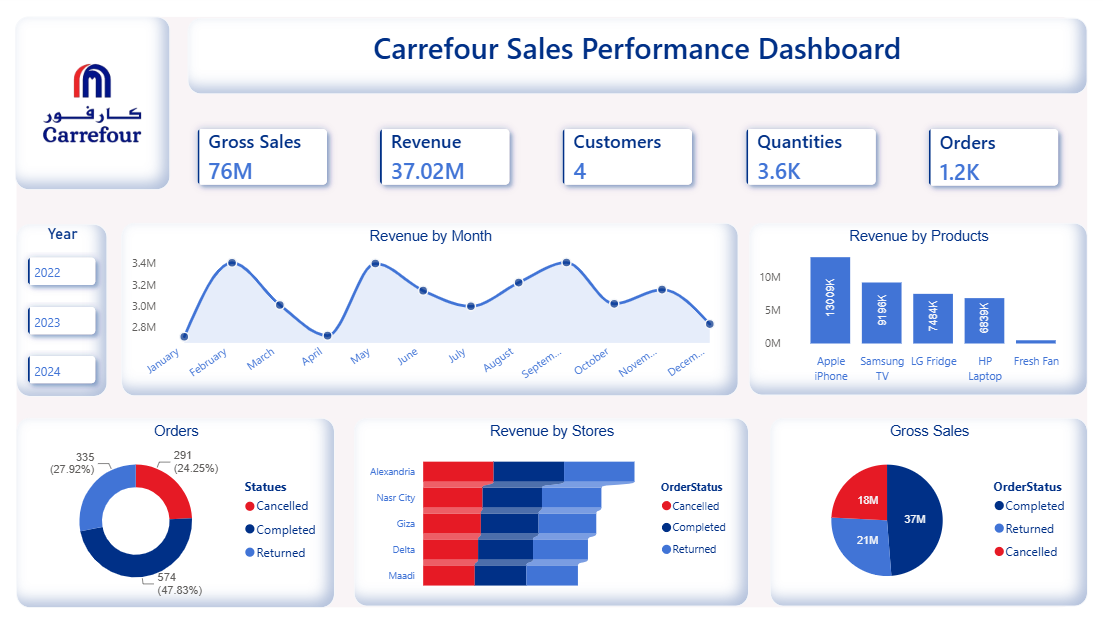

What the dashboard file says about the page in this screenshot:
{"tool":"powerbi","page":{"name":"Page 1","canvas":[1280,720],"ordinal":0},"visuals":[{"type":"shape","box":[61.7,24.7,1176,649.1],"z":500},{"type":"cardVisual","fields":{"Data":["All_Measures.Total_Customers"]},"box":[633,120,200.3,119.4],"z":1000},{"type":"pieChart","title":"Gross Sales","fields":{"Y":["All_Measures.Gross_Sales"],"Category":["SalesData.OrderStatus"]},"box":[889.2,465.2,348.5,207.2],"z":2000},{"type":"donutChart","title":"Orders","fields":{"Y":["All_Measures.Cancelled_Orders","All_Measures.Completed_Orders","All_Measures.Returned_Orders"]},"box":[61.7,465.2,349.9,208.6],"z":3000},{"type":"clusteredColumnChart","title":"Revenue by Products","fields":{"Category":["DimProducts.ProductName"],"Y":["All_Measures.Net_Sales"]},"box":[865.9,251.1,371.9,189.4],"z":4000},{"type":"barChart","title":"Revenue by Stores","fields":{"Series":["SalesData.OrderStatus"],"Category":["DimStores.StoreName"],"Y":["All_Measures.Net_Sales"]},"box":[432.2,465.2,433.6,207.2],"z":5000},{"type":"lineChart","fields":{"Category":["SalesData.Date.Variation.Date Hierarchy.Month"],"Y":["All_Measures.Net_Sales"]},"box":[177,251.1,677.9,190.7],"z":6000},{"type":"advancedSlicerVisual","fields":{"Values":["SalesData.Date.Variation.Date Hierarchy.Year"]},"box":[61.7,252.5,100.2,189.4],"z":7000},{"type":"textbox","box":[249.7,26.1,988,83.7],"z":9000},{"type":"image","box":[61,24.7,170,190],"z":10000},{"type":"cardVisual","fields":{"Data":["All_Measures.Total_Orders"]},"box":[1035,120,200,120.8],"z":11000},{"type":"cardVisual","fields":{"Data":["All_Measures.Total_Quantities"]},"box":[834,120,200.3,119.4],"z":12000},{"type":"cardVisual","fields":{"Data":["All_Measures.Total_Sales"]},"box":[231.9,120,200.3,119.4],"z":13000},{"type":"cardVisual","fields":{"Data":["All_Measures.Net_Sales"]},"box":[432,120,200.3,119.4],"z":14000}]}

Visuals, with their boxes in screenshot pixels (x1, y1, x2, y2), scaled from the page's 1280x720 canvas onto the 1103x623 screenshot:
shape: (53, 21, 1067, 583)
cardVisual - All_Measures.Total_Customers: (545, 104, 718, 207)
"Gross Sales" pieChart: (766, 403, 1067, 582)
"Orders" donutChart: (53, 403, 355, 583)
"Revenue by Products" clusteredColumnChart: (746, 217, 1067, 381)
"Revenue by Stores" barChart: (372, 403, 746, 582)
lineChart - SalesData.Date.Variation.Date Hierarchy.Month x All_Measures.Net_Sales: (153, 217, 737, 382)
advancedSlicerVisual - SalesData.Date.Variation.Date Hierarchy.Year: (53, 218, 140, 382)
textbox: (215, 23, 1067, 95)
image: (53, 21, 199, 186)
cardVisual - All_Measures.Total_Orders: (892, 104, 1064, 208)
cardVisual - All_Measures.Total_Quantities: (719, 104, 891, 207)
cardVisual - All_Measures.Total_Sales: (200, 104, 372, 207)
cardVisual - All_Measures.Net_Sales: (372, 104, 545, 207)
